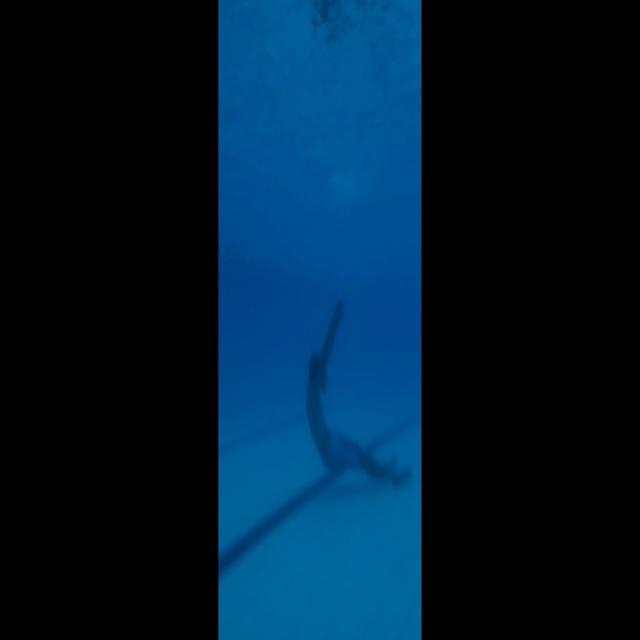drowning: (287, 291, 412, 521)
